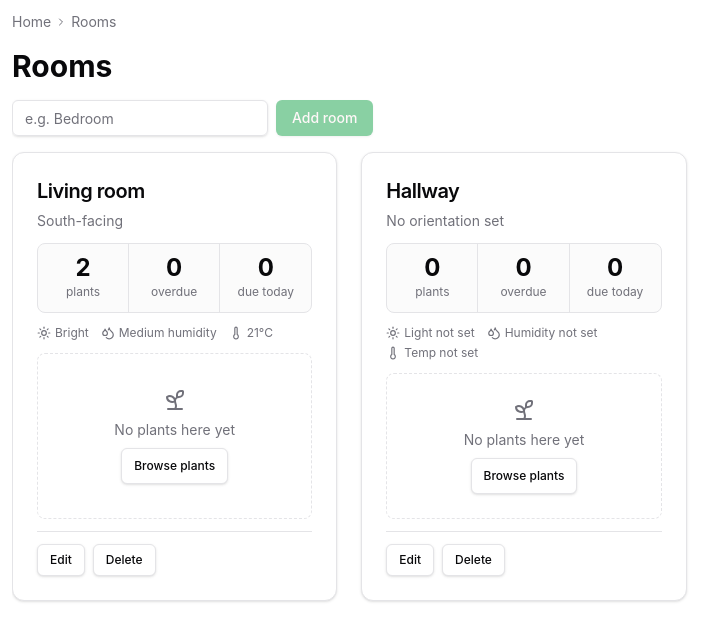
Test case: RoomsPage › discards changes and returns to read-only view on cancel
Click the button "Edit" below "Bright". click: coordinates (61, 560)
box: left=37, top=544, right=85, bottom=576
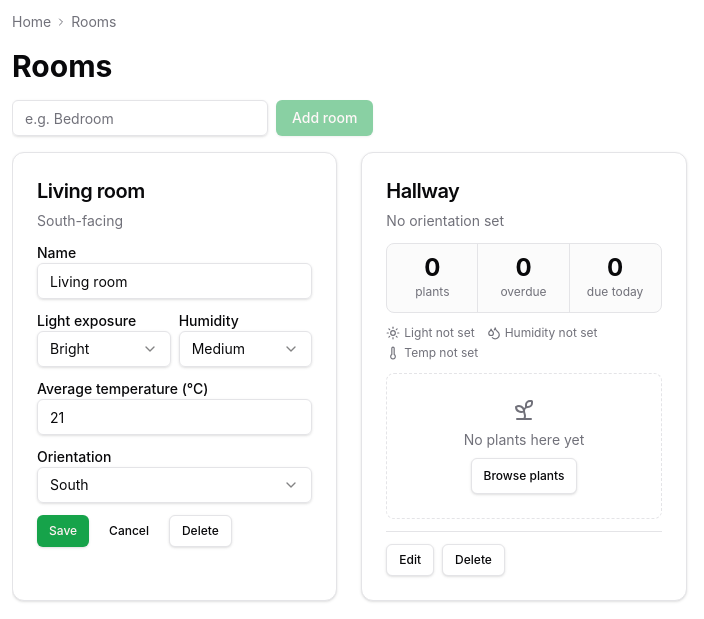
Replace the text in the number field labelled "Average temperature (°C)" with "19". click: coordinates (175, 417)
box: left=37, top=399, right=312, bottom=435
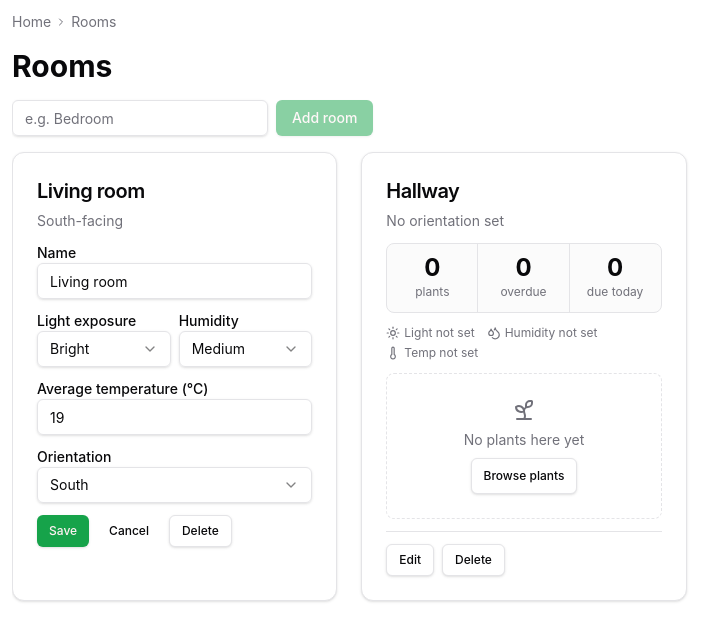
Click the button "Cancel". click: coordinates (129, 531)
box: left=97, top=515, right=161, bottom=547
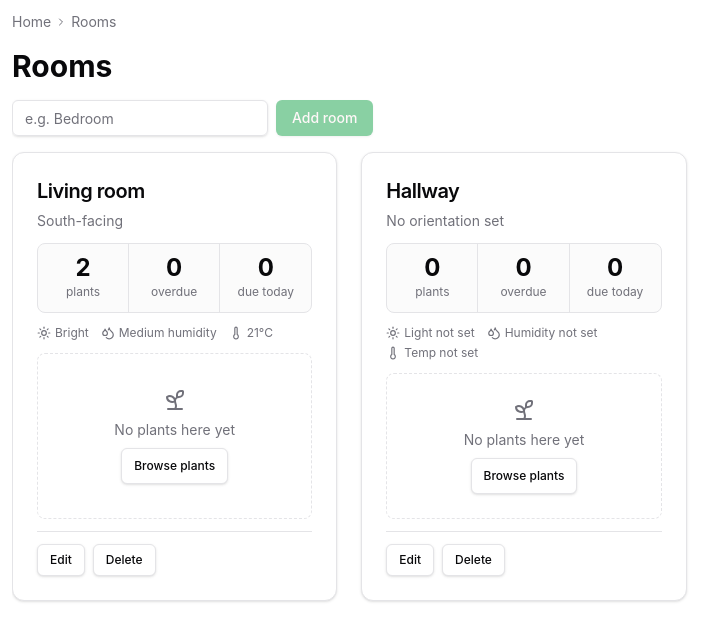
Result: the label labelled "Average temperature (°C)" is gone
Result: the text "21°C" is shown at left=229, top=325, right=273, bottom=341
